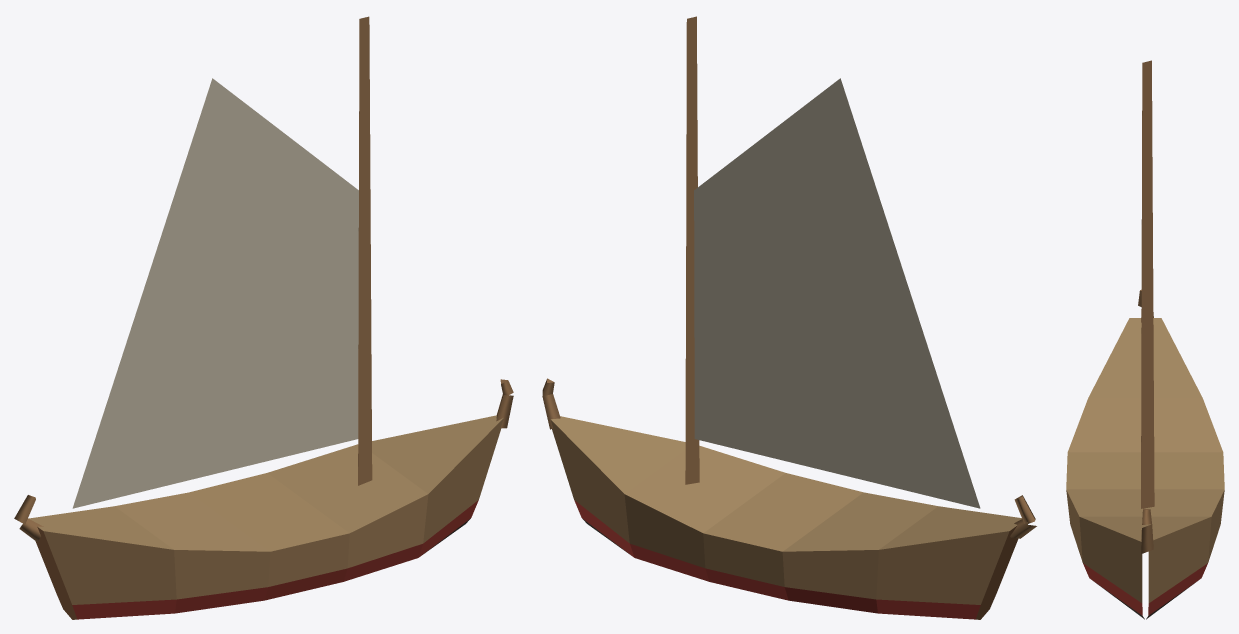
The model's file is hull_other_sprit_boat_lod.glb.
3 renders of one model, left to right at view 1: azimuth 30°, elevation 25°; view 2: azimuth 150°, elevation 25°; view 3: azimuth 270°, elevation 25°, orthographic. The views are drawn at different scales.
Visible parts, largest first — view 1: lod; view 2: lod; view 3: lod.
Part boxes in pixels (x1,y1,x2,y2): lod: (14,16,513,619); lod: (542,16,1036,619); lod: (1066,60,1224,619).
Size of the model in its own units: 7.94 by 8.39 by 2.29.
